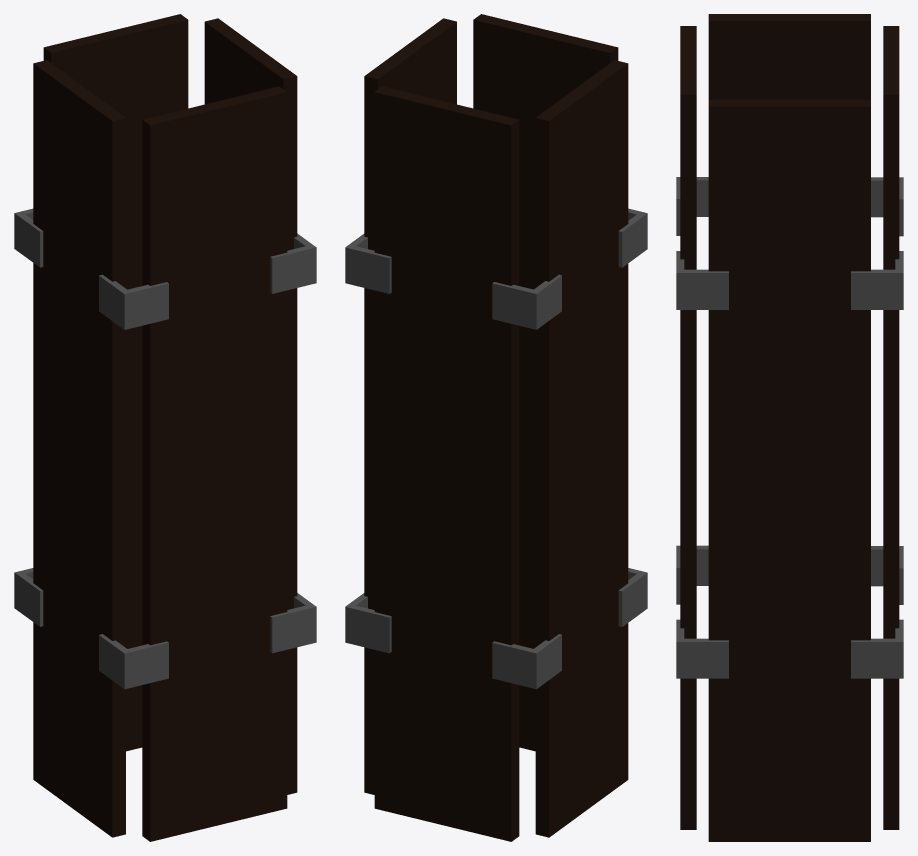
File: flagBox.fbx
The picture shows the model from 3 angles, left to right: view 1: azimuth 30°, elevation 25°; view 2: azimuth 150°, elevation 25°; view 3: azimuth 270°, elevation 25°; orthographic projection. The views are drawn at different scales.
Visible parts, largest first — view 1: Cube.001, Cube.003, Cube.002, Cube.004, Cube.009, Cube.010, Cube.005, Cube.006, Cube.011, Cube.012; view 2: Cube.002, Cube.003, Cube.001, Cube.004, Cube.012, Cube.011, Cube.007, Cube.008, Cube.009, Cube.010; view 3: Cube.004, Cube.003, Cube.001, Cube.002, Cube.007, Cube.006, Cube.005, Cube.008, Cube.012, Cube.010, Cube.011, Cube.009.
Boxes of the visible parts, x1=… form: Cube.001: x1=142, y1=86, x2=287, y2=841; Cube.003: x1=33, y1=60, x2=125, y2=837; Cube.002: x1=43, y1=14, x2=188, y2=751; Cube.004: x1=204, y1=18, x2=297, y2=794; Cube.009: x1=99, y1=274, x2=168, y2=329; Cube.010: x1=99, y1=634, x2=168, y2=689; Cube.005: x1=270, y1=233, x2=316, y2=293; Cube.006: x1=270, y1=593, x2=316, y2=653; Cube.011: x1=14, y1=568, x2=43, y2=626; Cube.012: x1=14, y1=208, x2=43, y2=267; Cube.002: x1=374, y1=86, x2=519, y2=841; Cube.003: x1=535, y1=60, x2=628, y2=837; Cube.001: x1=473, y1=14, x2=618, y2=751; Cube.004: x1=364, y1=18, x2=456, y2=794; Cube.012: x1=492, y1=274, x2=561, y2=329; Cube.011: x1=492, y1=634, x2=561, y2=689; Cube.007: x1=345, y1=593, x2=391, y2=653; Cube.008: x1=345, y1=234, x2=391, y2=293; Cube.009: x1=618, y1=208, x2=647, y2=267; Cube.010: x1=618, y1=568, x2=647, y2=626; Cube.004: x1=708, y1=99, x2=870, y2=841; Cube.003: x1=708, y1=14, x2=870, y2=99; Cube.001: x1=680, y1=26, x2=696, y2=829; Cube.002: x1=883, y1=26, x2=899, y2=829; Cube.007: x1=851, y1=619, x2=903, y2=678; Cube.006: x1=676, y1=619, x2=728, y2=678; Cube.005: x1=676, y1=251, x2=728, y2=309; Cube.008: x1=851, y1=251, x2=903, y2=309; Cube.012: x1=871, y1=177, x2=903, y2=236; Cube.010: x1=676, y1=545, x2=708, y2=604; Cube.011: x1=871, y1=546, x2=903, y2=604; Cube.009: x1=676, y1=177, x2=708, y2=235.
Size of the model in its own units: 56.11 by 200 by 56.04.
